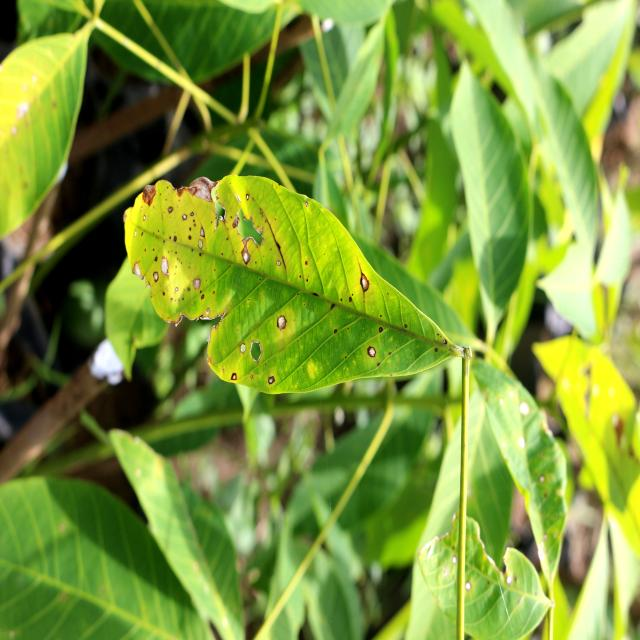Colletotrichum: (276, 314, 286, 330), (367, 346, 375, 356), (230, 372, 237, 381), (153, 272, 159, 282), (268, 376, 275, 384), (182, 214, 188, 221), (168, 207, 173, 212), (173, 236, 177, 242), (188, 235, 192, 240), (379, 327, 383, 332), (190, 212, 194, 216), (349, 297, 352, 302)
Corynespora: (267, 218, 286, 268)
